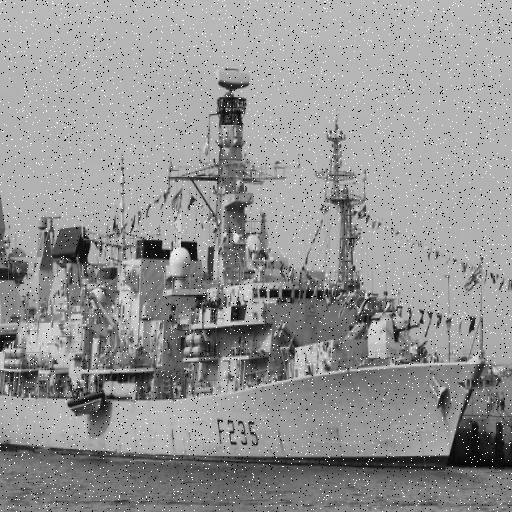Fragata: (1, 59, 495, 485)
